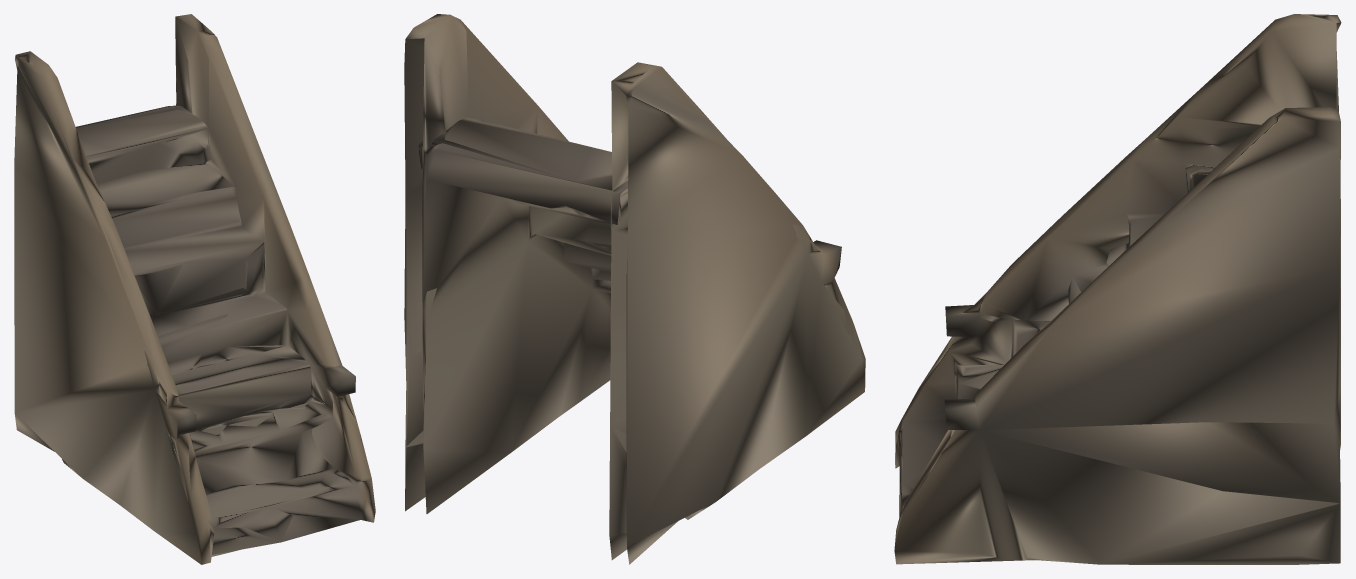
Rendered from gen3d-stair-lod1.glb.
The picture shows the model from 3 angles, left to right: view 1: azimuth 30°, elevation 25°; view 2: azimuth 150°, elevation 25°; view 3: azimuth 270°, elevation 25°; orthographic projection. The views are drawn at different scales.
Visible parts, largest first — view 1: part_0; view 2: part_0; view 3: part_0.
Part boxes in pixels (box(x1,y1,x2,y2)): part_0: box(14, 14, 375, 564); part_0: box(404, 14, 865, 564); part_0: box(894, 14, 1341, 564).
Bounding box in the file's own units: 0.4965 × 0.9993 × 0.9001.
